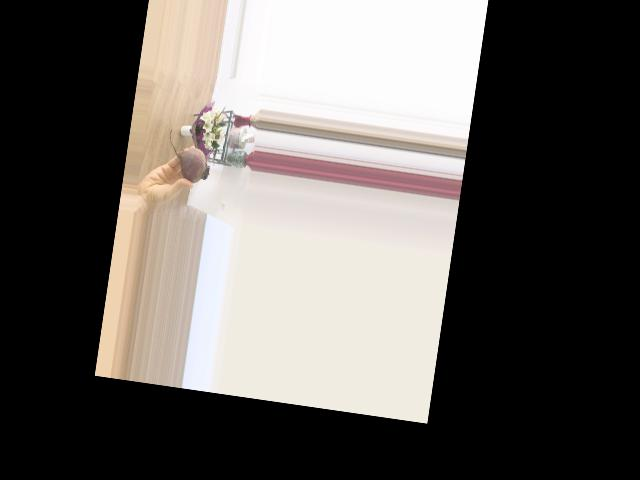beet: (163, 127, 214, 184)
